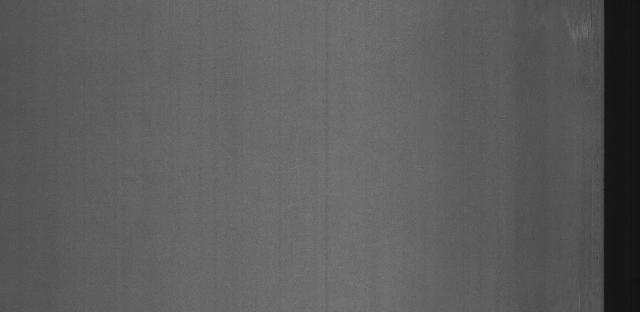silk_spot: (550, 7, 599, 51)
